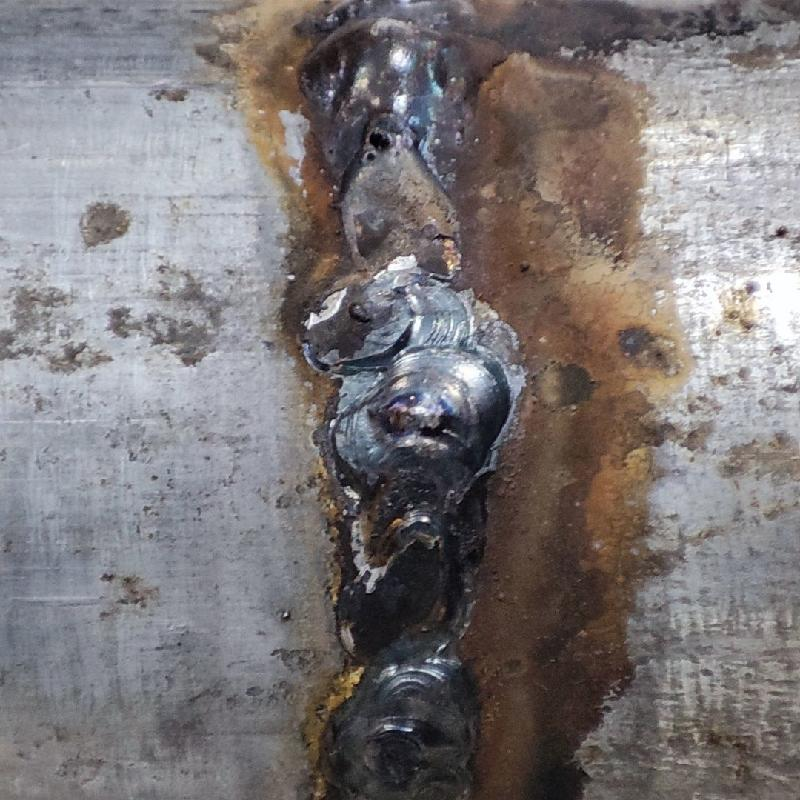Not_fully_soldered: (321, 117, 468, 344)
Surface_pores: (353, 117, 421, 172)
Weld: (283, 0, 483, 175)
wrong_size: (322, 348, 508, 791)
